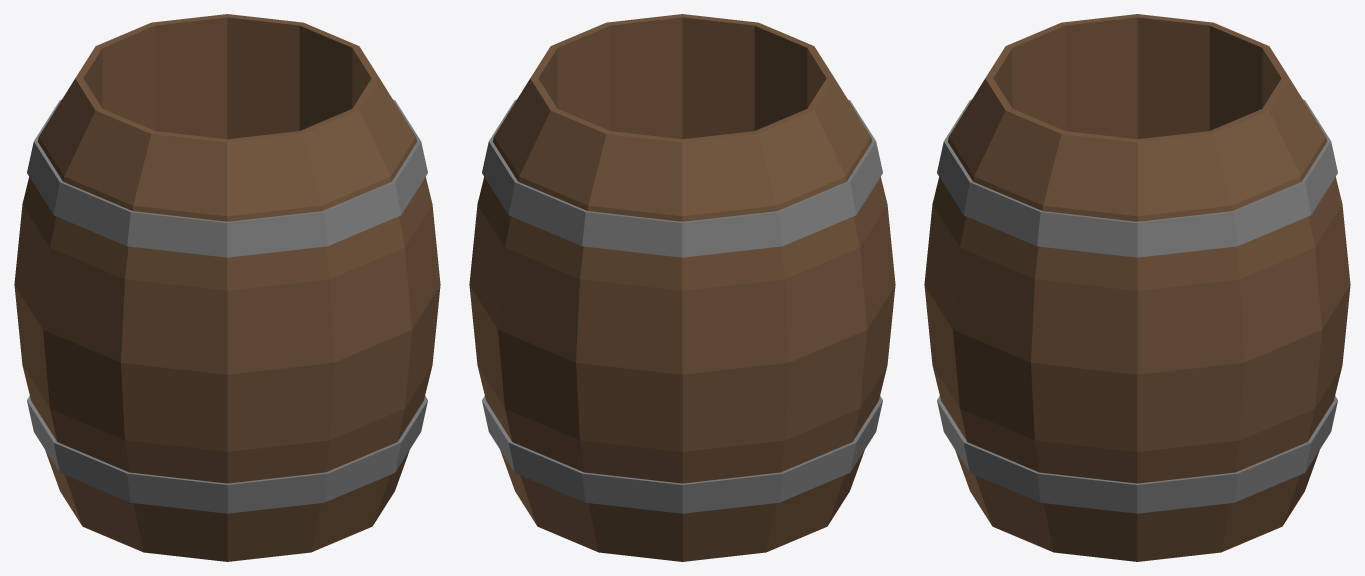
File: barrel.fbx
The picture shows the model from 3 angles, left to right: view 1: azimuth 30°, elevation 25°; view 2: azimuth 150°, elevation 25°; view 3: azimuth 270°, elevation 25°; orthographic projection.
Parts seen in each view (by area): view 1: barrel; view 2: barrel; view 3: barrel.
Part boxes in pixels (x1,y1,x2,y2): barrel: [14, 14, 440, 561]; barrel: [469, 14, 895, 561]; barrel: [924, 14, 1350, 561].
Size of the model in its own units: 246 by 263 by 246.
